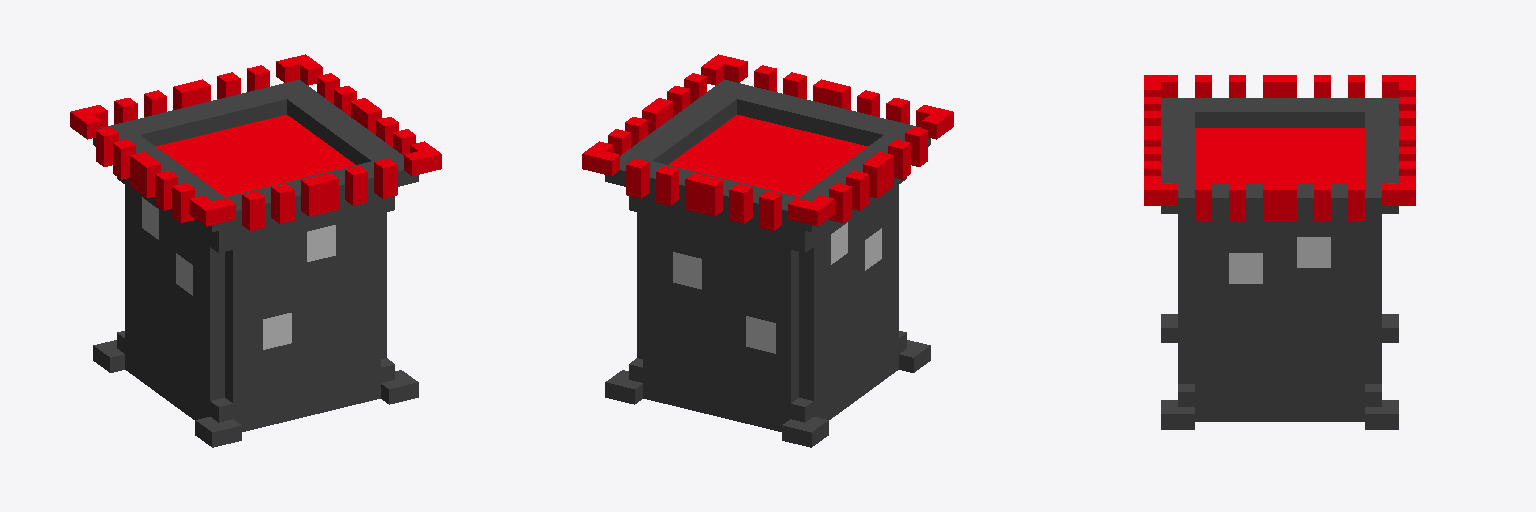
3 renders of one model, left to right at view 1: azimuth 30°, elevation 25°; view 2: azimuth 150°, elevation 25°; view 3: azimuth 270°, elevation 25°, orthographic.
Parts seen in each view (by area): view 1: Model; view 2: Model; view 3: Model.
Part boxes in pixels (x1,y1,x2,y2): Model: (70, 54, 441, 447); Model: (582, 54, 953, 447); Model: (1144, 75, 1415, 429).
Bounding box in the file's own units: 32 × 32 × 32.
Materials: 1 (1 with a texture image).